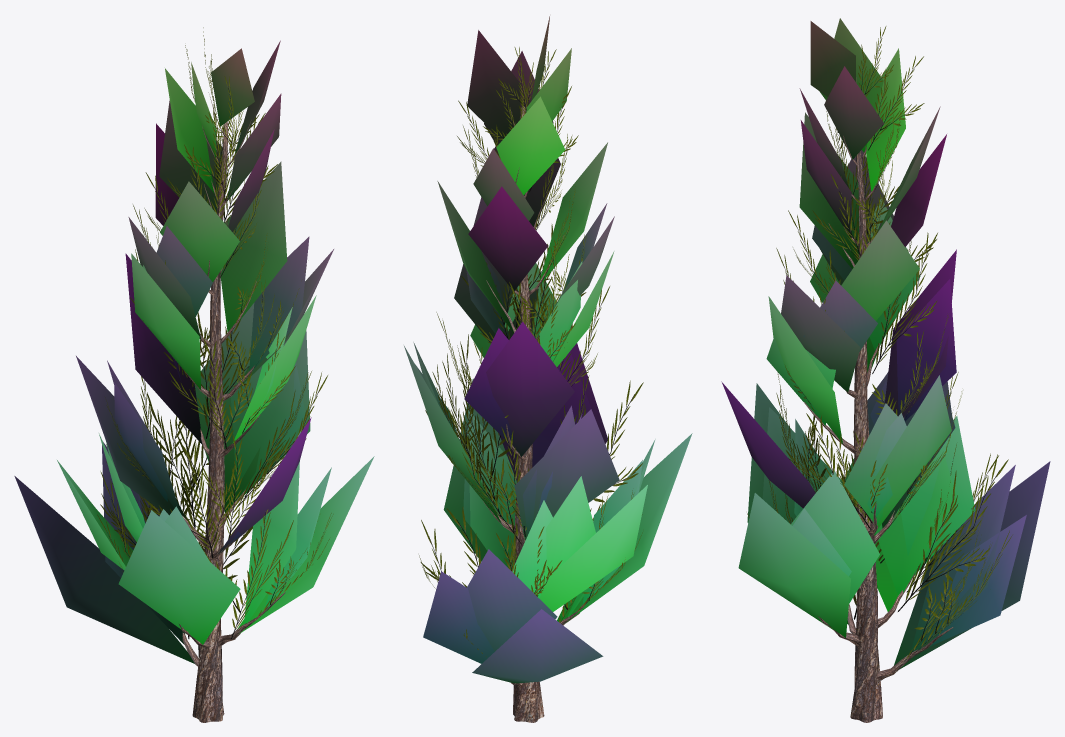
File: JuniperTree.fbx
3 renders of one model, left to right at view 1: azimuth 30°, elevation 25°; view 2: azimuth 150°, elevation 25°; view 3: azimuth 270°, elevation 25°, orthographic. The views are drawn at different scales.
Visible parts, largest first — view 1: Tree_2, Tree_1, Tree_0; view 2: Tree_2, Tree_1, Tree_0; view 3: Tree_2, Tree_1, Tree_0.
Part boxes in pixels (box(x1,y1,x2,y2)): Tree_2: box(14, 40, 374, 663); Tree_1: box(97, 27, 333, 657); Tree_0: box(179, 92, 285, 722); Tree_2: box(404, 16, 692, 683); Tree_1: box(419, 47, 643, 656); Tree_0: box(483, 90, 588, 722); Tree_2: box(721, 18, 1050, 669); Tree_1: box(747, 26, 1012, 670); Tree_0: box(804, 77, 953, 722).
Size of the model in its own units: 128 by 342 by 145.
